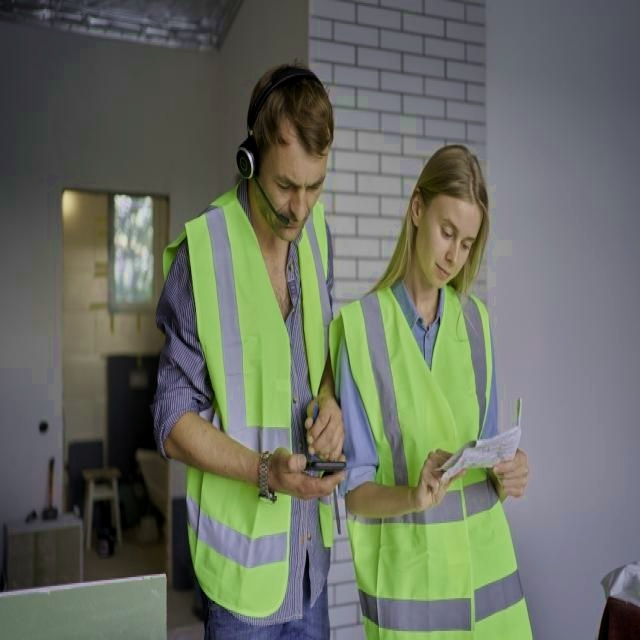Con_Chaleco: (178, 203, 334, 598), (342, 294, 517, 640)
Sin_Casco_Mascarrilla: (240, 67, 335, 245), (409, 145, 494, 284)
